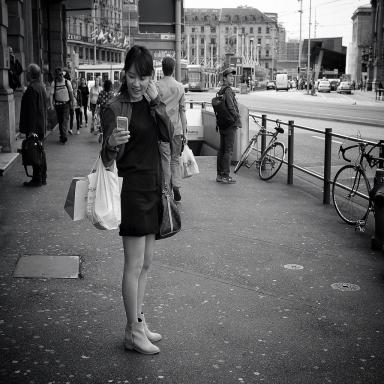plasticbag: (86, 152, 124, 229), (180, 142, 200, 178)
